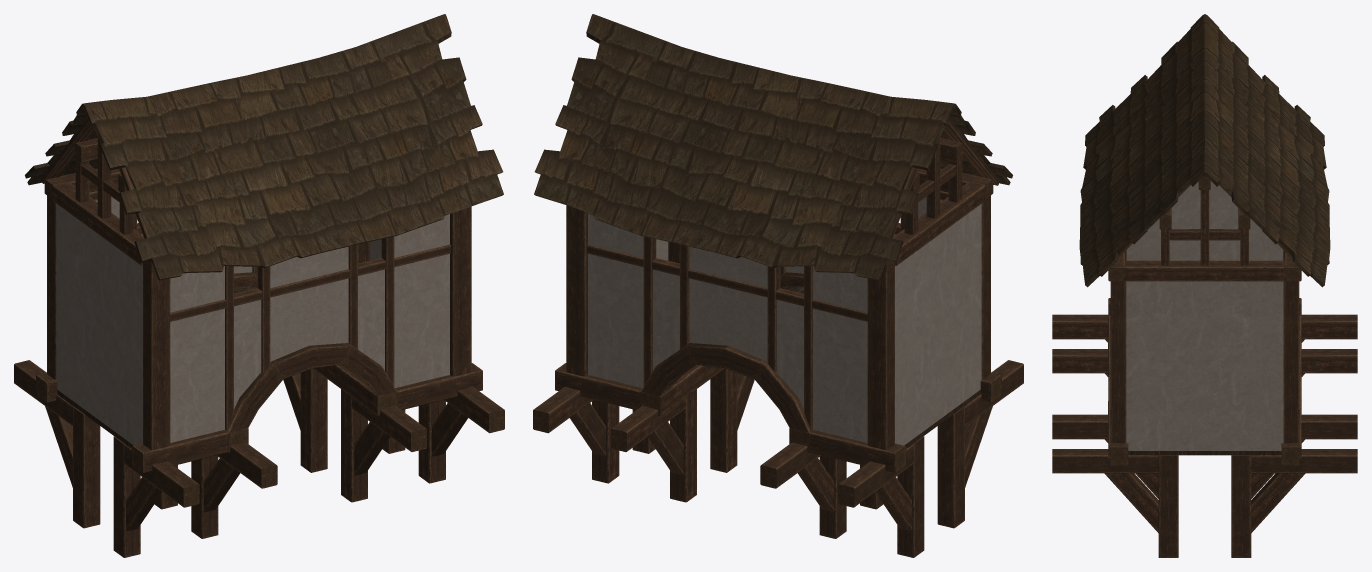
Rendered from Building2c.glb.
3 views of the same model, side by side, from view 1: azimuth 30°, elevation 25°; view 2: azimuth 150°, elevation 25°; view 3: azimuth 270°, elevation 25° (orthographic). The views are drawn at different scales.
Visible parts, largest first — view 1: roof, arch, wall; view 2: roof, arch, wall; view 3: roof, arch, wall, floor.
Boxes of the visible parts, <box> form: roof: <box>25,14,503,280</box>; arch: <box>14,118,504,557</box>; wall: <box>56,192,449,445</box>; roof: <box>534,14,1012,280</box>; arch: <box>533,119,1023,557</box>; wall: <box>588,196,981,445</box>; roof: <box>1079,14,1330,287</box>; arch: <box>1052,176,1357,557</box>; wall: <box>1126,181,1283,450</box>; floor: <box>1128,451,1281,455</box>.
Bounding box in the file's own units: 5.67 × 6.59 × 4.6.
5 materials, 5 textured.
